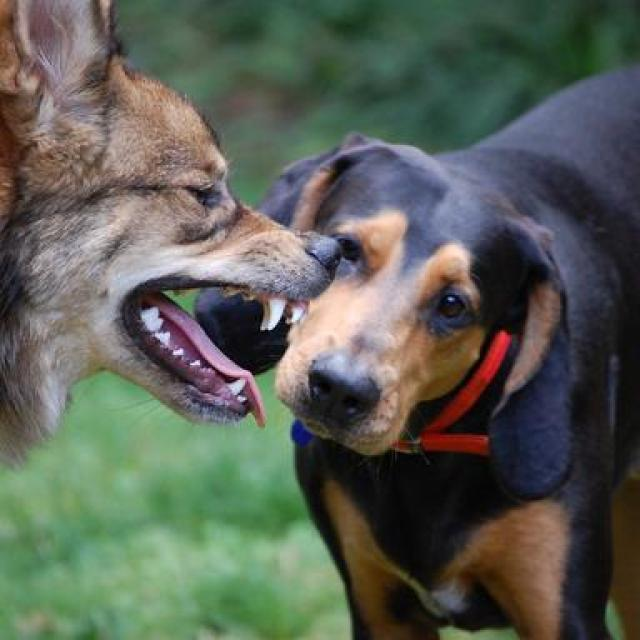angry: (0, 36, 375, 466)
